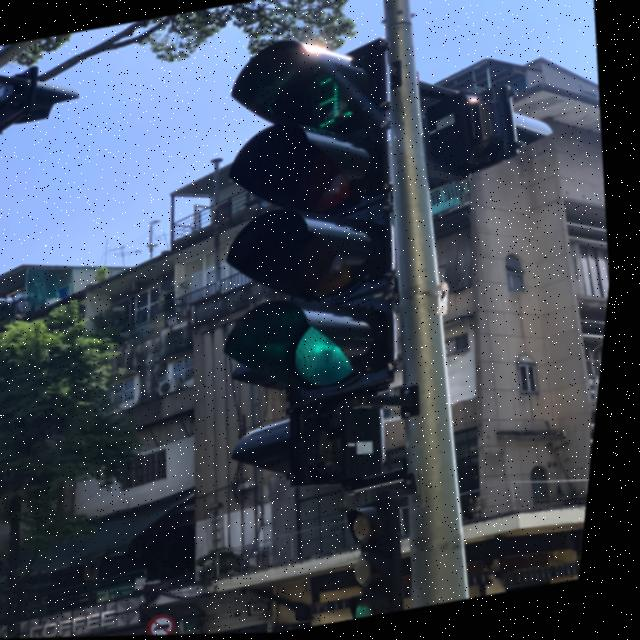Green: (187, 112, 452, 417)
